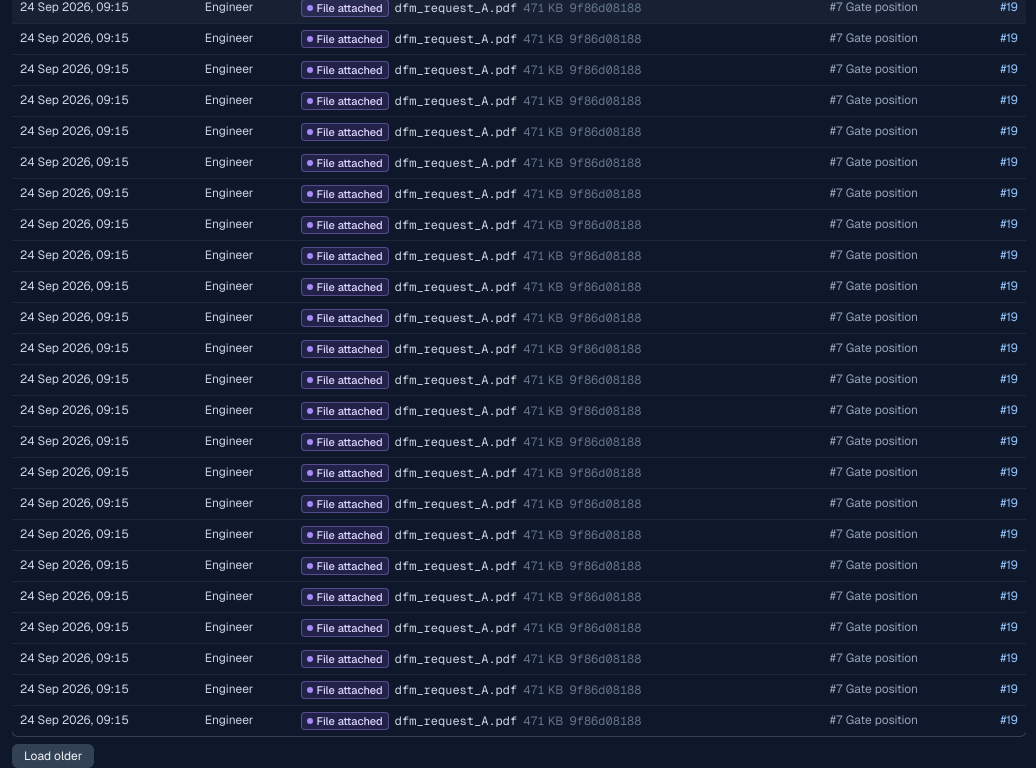
Test: DfmAuditLog › loads older events with before_id and appends them
(page scrolled)
Click the button with test id "dfm-audit-load-older". click: x=53, y=756
box: 12,744 -> 94,767
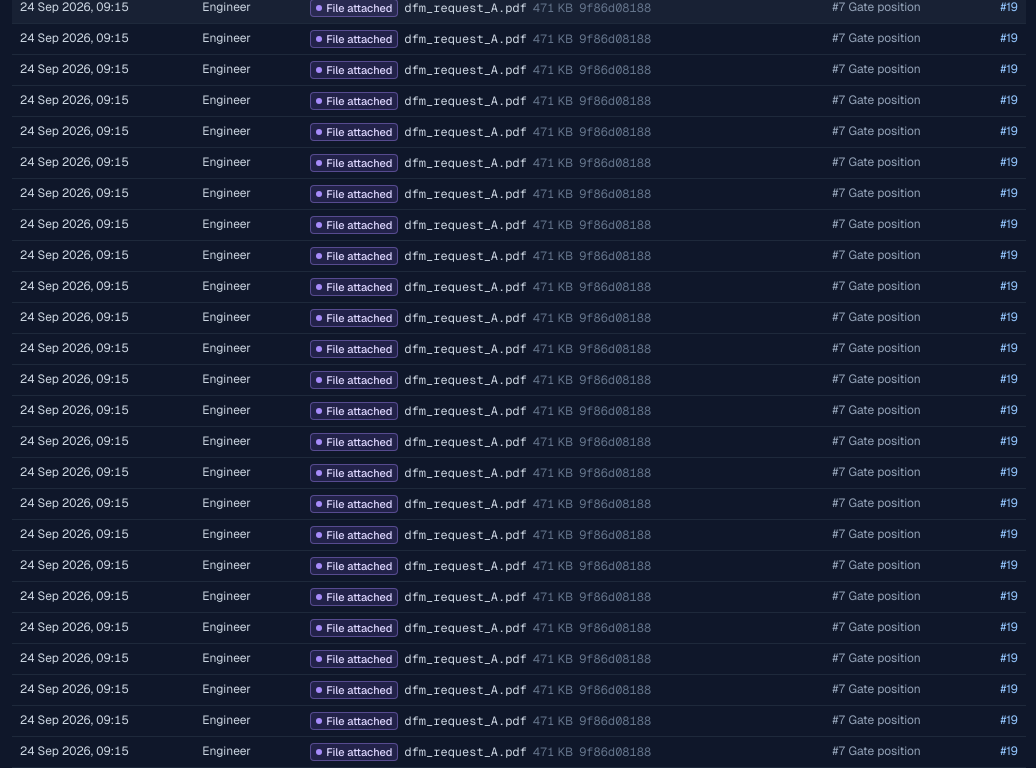
Now the row with test id "dfm-audit-row-42" is shown, box 12,736 -> 1026,767
